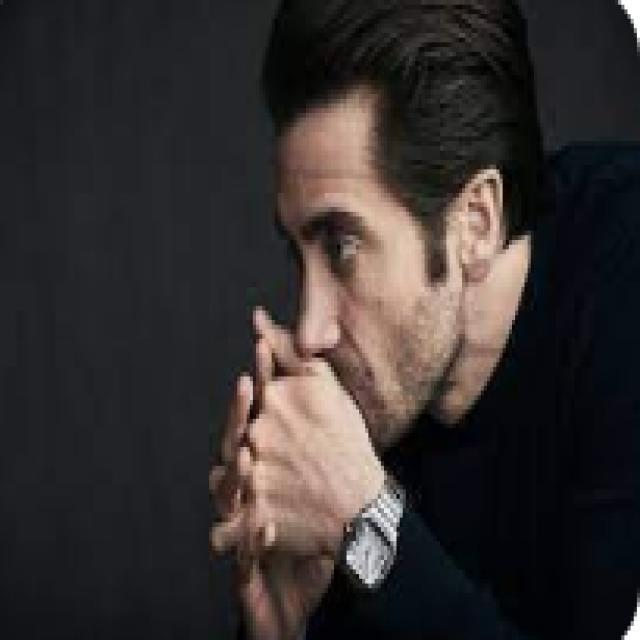Watch: (337, 474, 406, 598)
